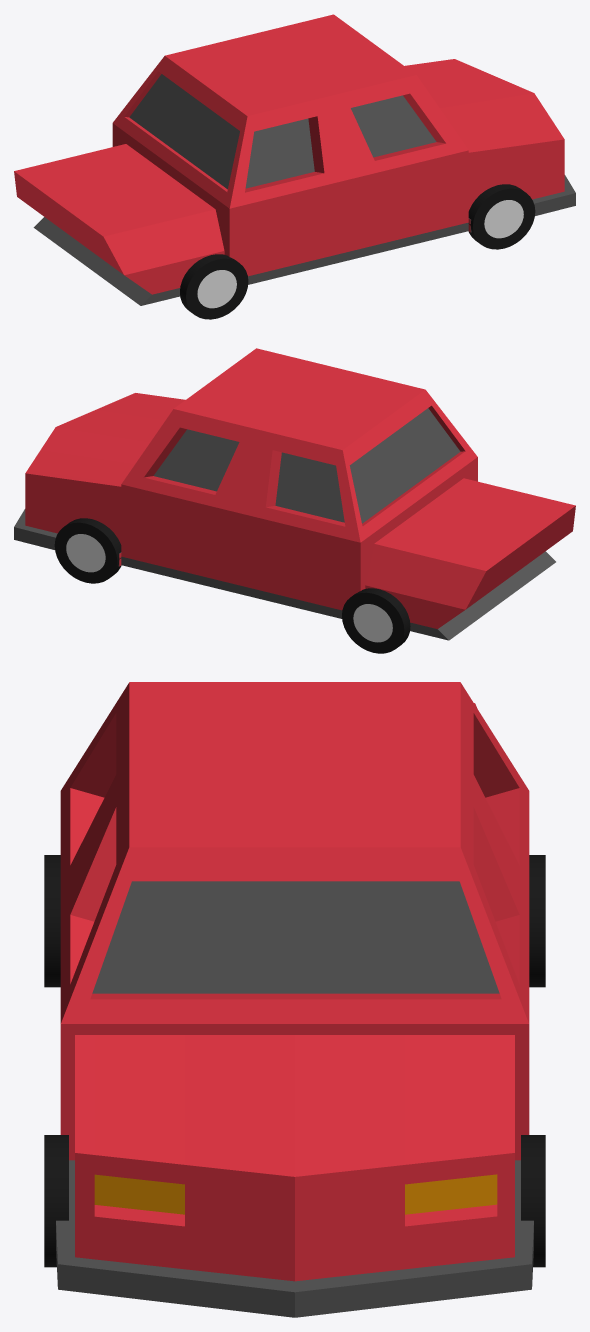
The model's file is Car.fbx.
3 renders of one model, top to bottom at view 1: azimuth 30°, elevation 25°; view 2: azimuth 150°, elevation 25°; view 3: azimuth 270°, elevation 25°, orthographic. The views are drawn at different scales.
Visible parts, largest first — view 1: Cube, Cylinder.001, Cylinder; view 2: Cube, Cylinder.001, Cylinder; view 3: Cube, Cylinder, Cylinder.001.
Boxes of the visible parts, x1,y1,x2,y2 form: Cube: (14, 14, 575, 305); Cylinder.001: (180, 254, 248, 319); Cylinder: (468, 184, 535, 249); Cube: (14, 348, 575, 640); Cylinder.001: (342, 588, 410, 653); Cylinder: (54, 518, 121, 583); Cube: (56, 682, 533, 1317); Cylinder: (44, 1135, 545, 1267); Cylinder.001: (44, 855, 545, 987).
Bounding box in the file's own units: 683 × 234 × 305.
